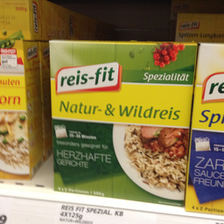rice: (49, 41, 197, 208)
